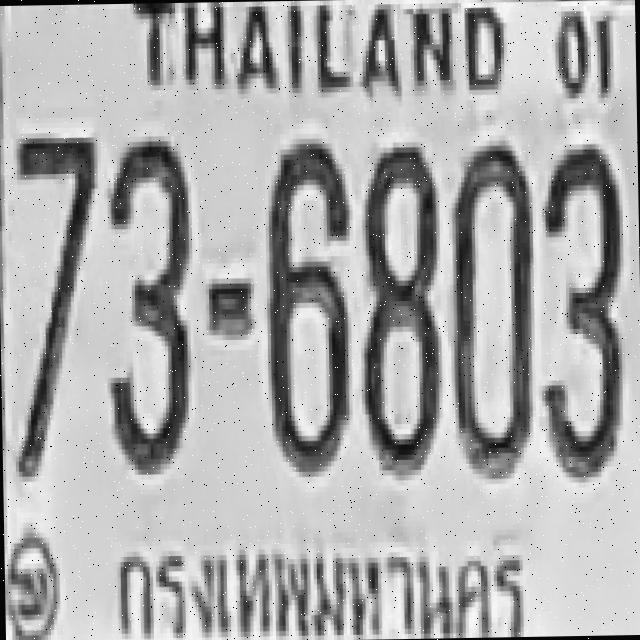0: (448, 142, 536, 472)
3: (103, 136, 192, 470), (538, 141, 624, 480)
6: (262, 138, 351, 472)
7: (8, 132, 100, 476), (15, 130, 100, 463), (15, 132, 99, 348)
8: (358, 144, 440, 473)
Bangkok: (104, 524, 533, 640)
